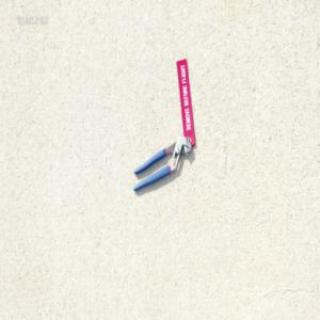LuggageTagtrack_idkeyframe: (176, 57, 196, 144)
Pliertrack_idkeyframe: (132, 134, 191, 192)
